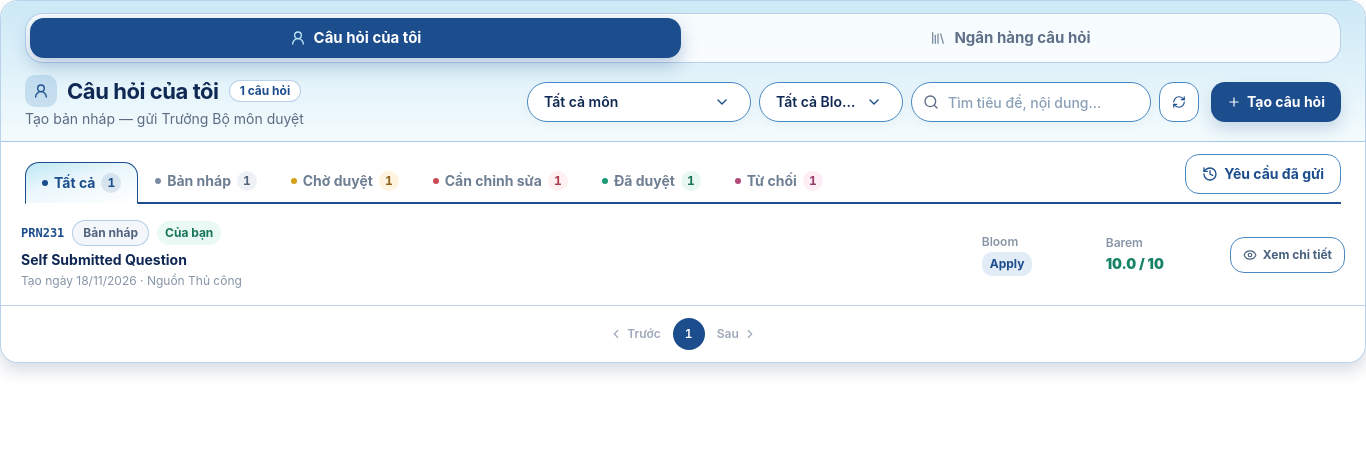
it: QuestionStudioPage review queue & batch approval › shows question selection only in the draft status tab
The image size is (1366, 454).
Expected: the heading "Self Submitted Question" is shown, x1=21 y1=251 x2=187 y2=268
Expected: the button "Chọn tất cả" is not shown
Click the tab "Bản nháp 1" at (206, 181), box x1=138 y1=160 x2=274 y2=202
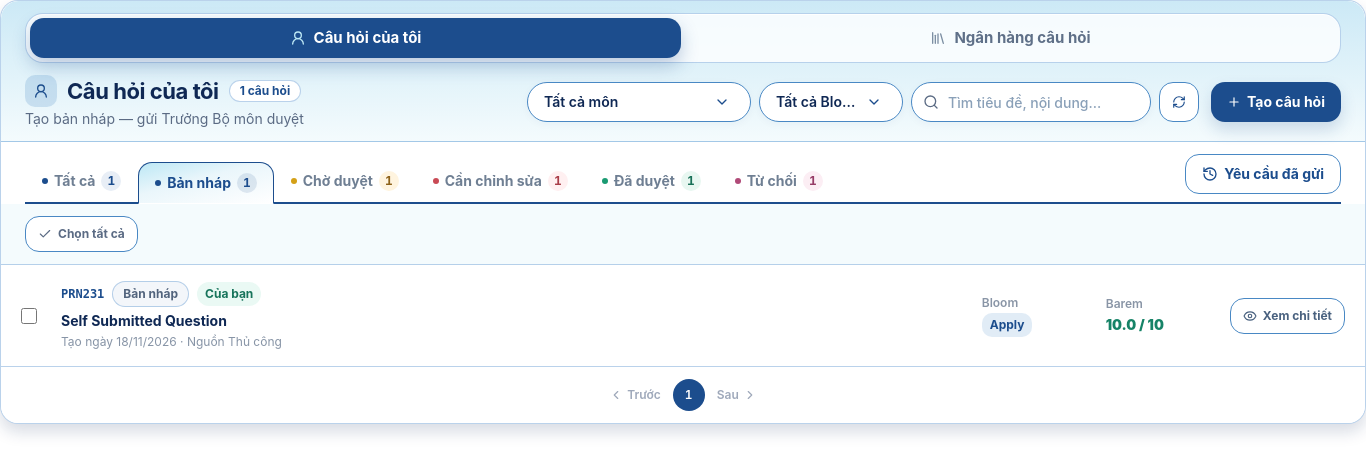
Now the button "Chọn tất cả" is shown, box x1=25 y1=216 x2=138 y2=252
Now the checkbox is enabled, box x1=21 y1=308 x2=37 y2=324
Click the tab "Cần chỉnh sửa 1" at (500, 181), box x1=416 y1=160 x2=585 y2=202
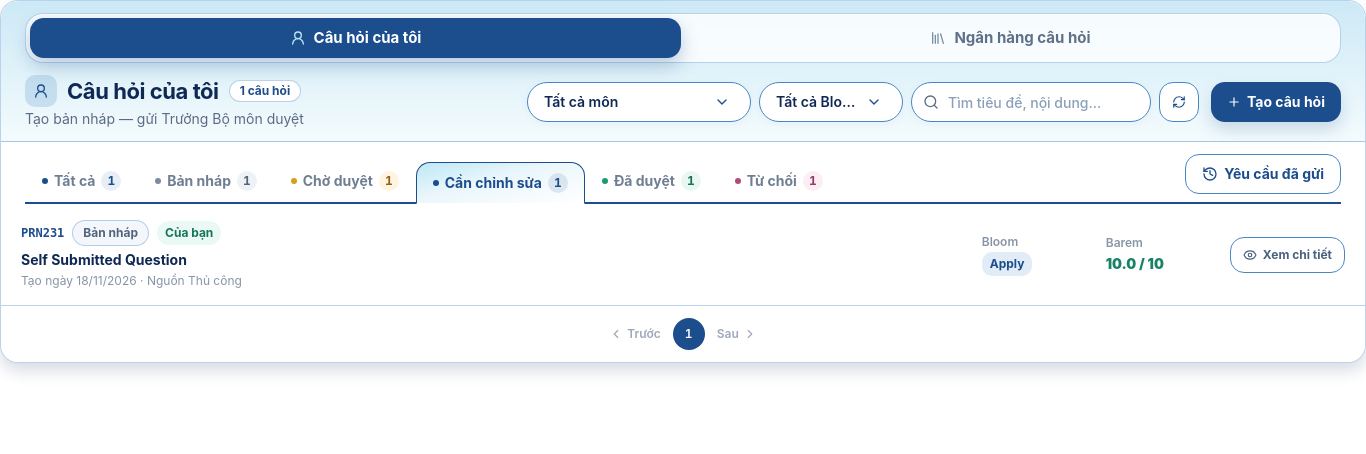
Now the checkbox is gone
Now the button "Chọn tất cả" is gone
